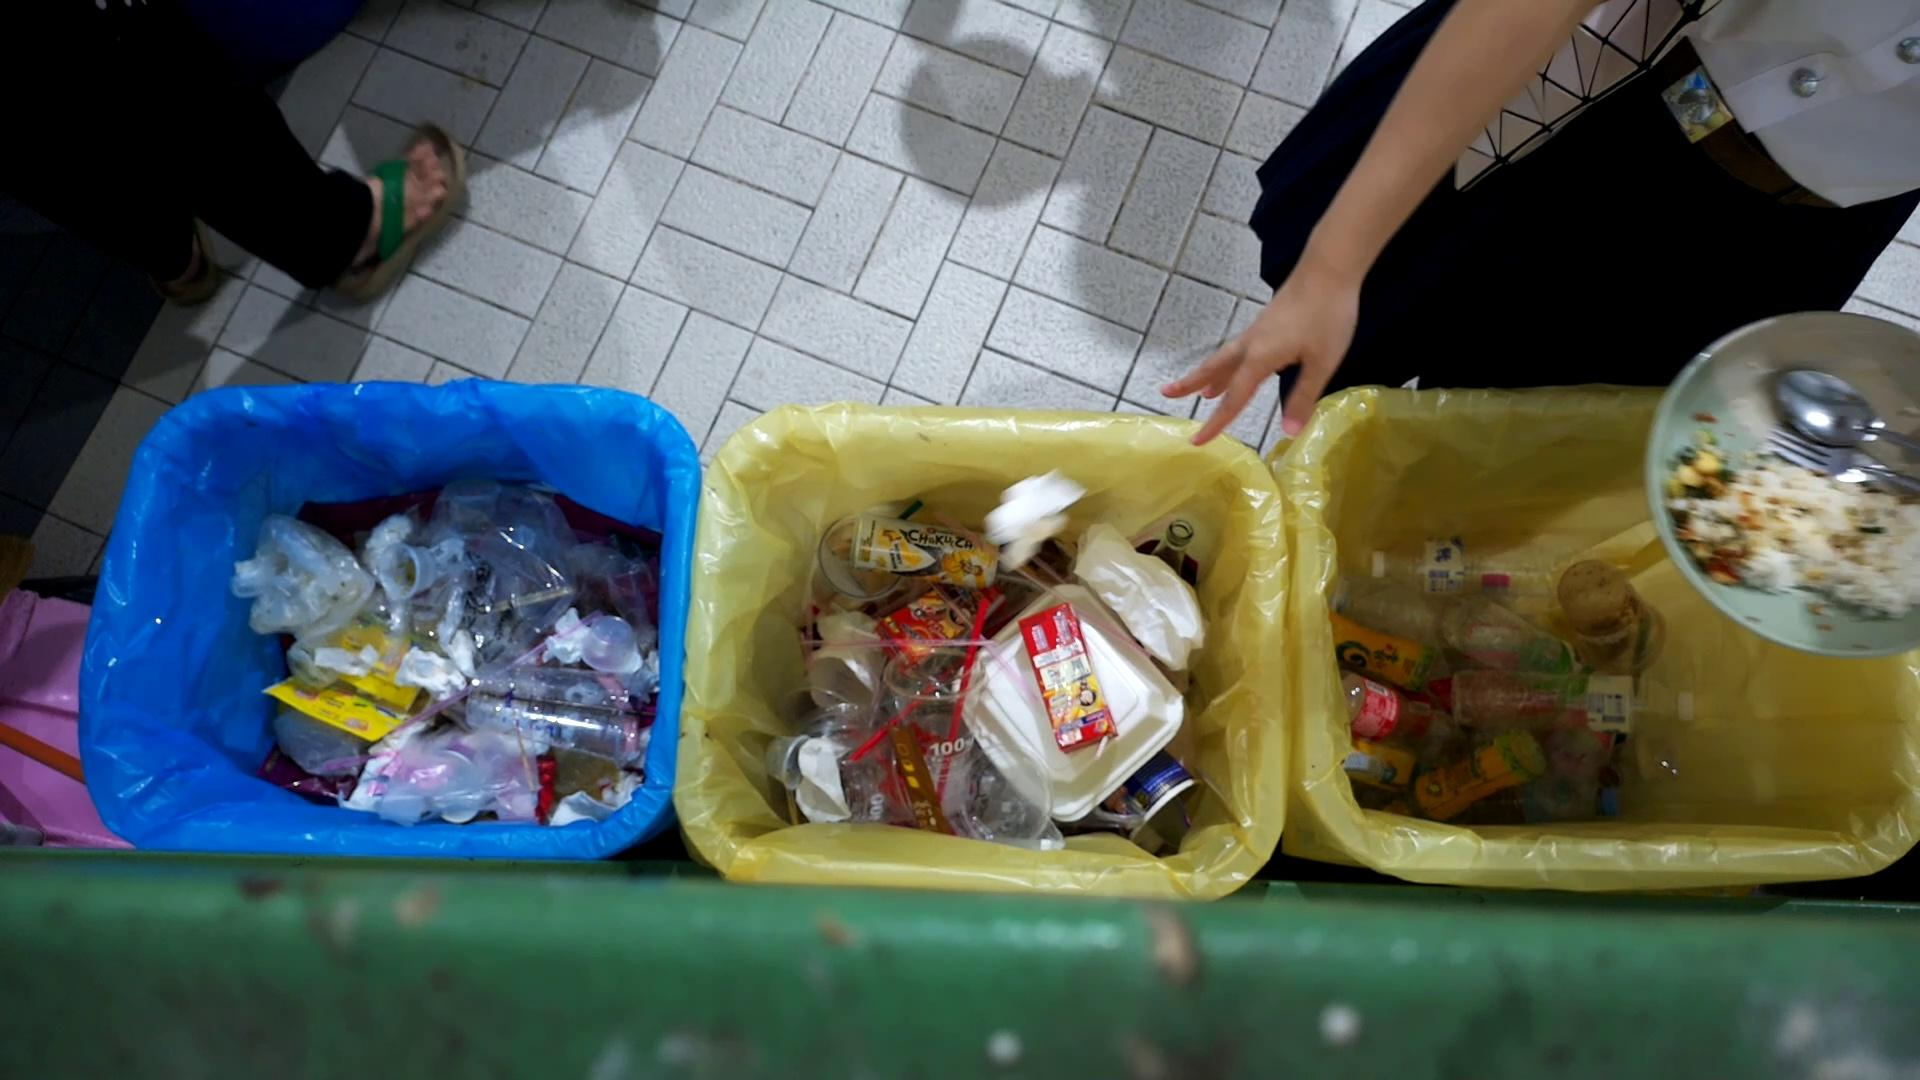can: (844, 509, 1004, 591)
dirty food container: (1650, 306, 1920, 654)
filled plastic bag: (384, 473, 580, 687)
food container: (948, 580, 1193, 828), (795, 736, 856, 825), (373, 541, 438, 604), (579, 615, 642, 675), (761, 731, 814, 796)
milk carton: (1014, 591, 1121, 761), (870, 582, 1010, 676)
plastic bag: (1072, 522, 1215, 678), (228, 509, 378, 647), (375, 716, 542, 831)
plastic bottle: (1449, 666, 1698, 741), (1379, 704, 1548, 815), (1337, 666, 1486, 766), (1369, 531, 1593, 597), (1441, 593, 1584, 670), (1328, 607, 1456, 688)
plastic cup: (463, 661, 645, 771), (880, 646, 992, 822), (1552, 556, 1669, 671), (953, 740, 1059, 852)
straw: (930, 512, 1154, 661), (926, 579, 1040, 707), (848, 658, 961, 765), (936, 596, 993, 804), (479, 688, 657, 721), (794, 637, 1000, 649), (841, 621, 885, 640), (1092, 735, 1112, 765)
tissue paper: (990, 465, 1081, 578), (392, 646, 469, 703), (537, 607, 592, 665), (433, 620, 481, 679), (310, 641, 382, 679)
